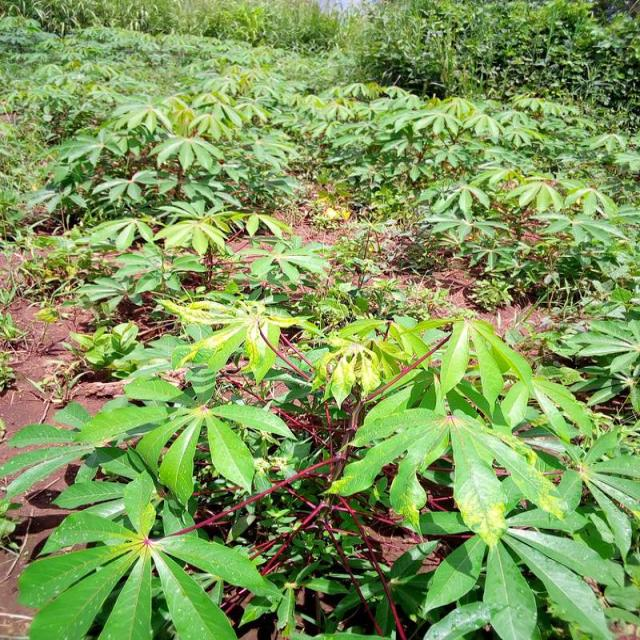cassava leaf: (1, 15, 638, 638), (17, 470, 279, 638)
